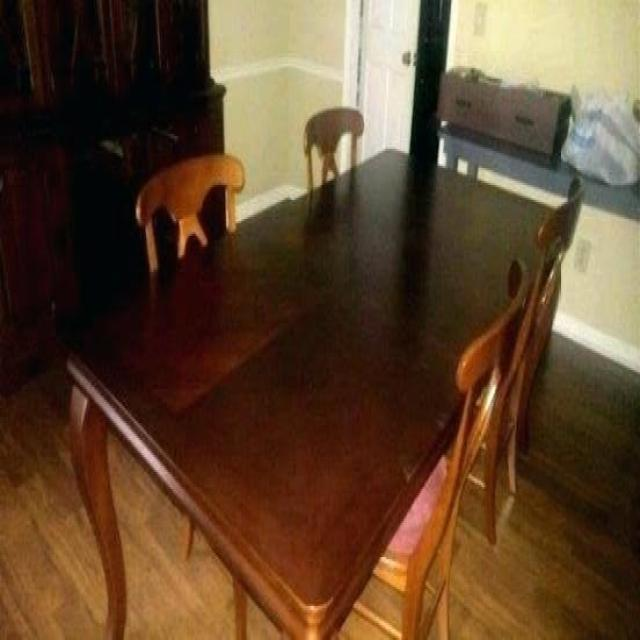chair: (391, 269, 528, 627)
table: (55, 149, 553, 638)
